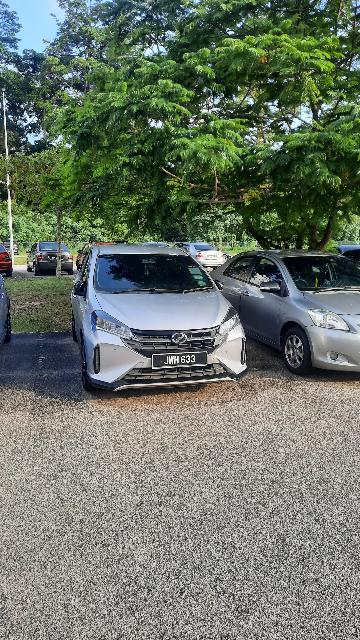License_Plate: (148, 352, 210, 370)
car: (70, 239, 253, 394), (210, 246, 360, 375)
